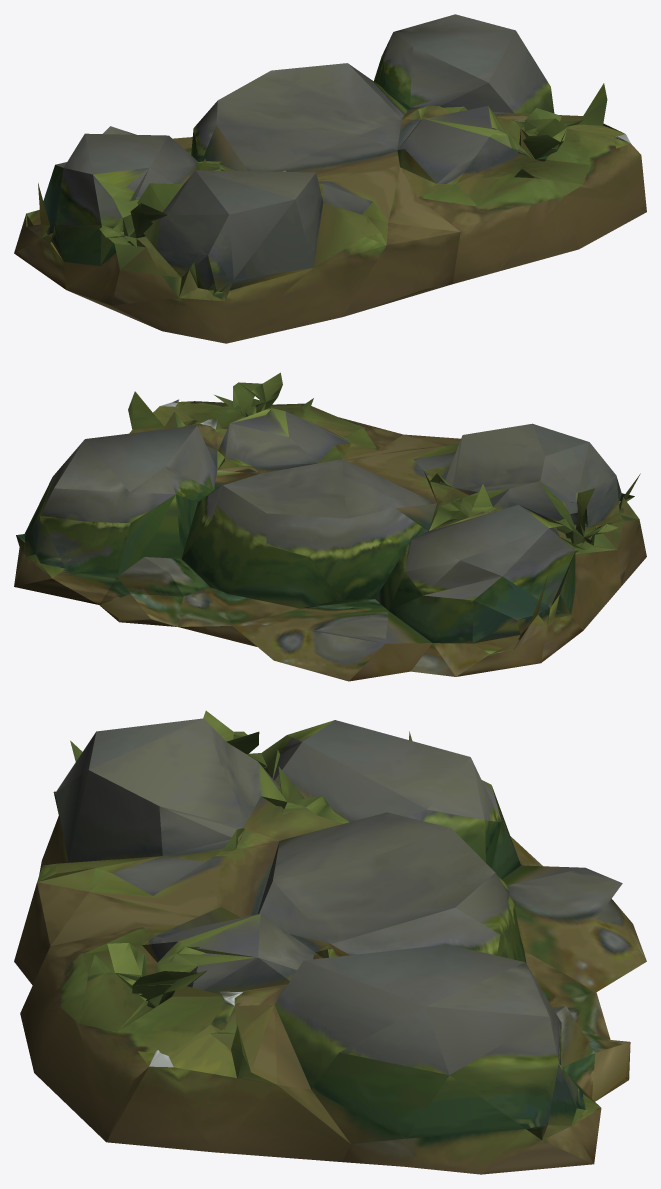
3 views of the same model, one above another, from view 1: azimuth 30°, elevation 25°; view 2: azimuth 150°, elevation 25°; view 3: azimuth 270°, elevation 25° (orthographic). The views are drawn at different scales.
Visible parts, largest first — view 1: river_rocks; view 2: river_rocks; view 3: river_rocks.
Part boxes in pixels (x1,y1,x2,y2): river_rocks: [14, 14, 646, 343]; river_rocks: [14, 372, 646, 681]; river_rocks: [14, 710, 646, 1174].
Bounding box in the file's own units: 0.9657 × 0.2282 × 0.7428.
1 material, 1 textured.
